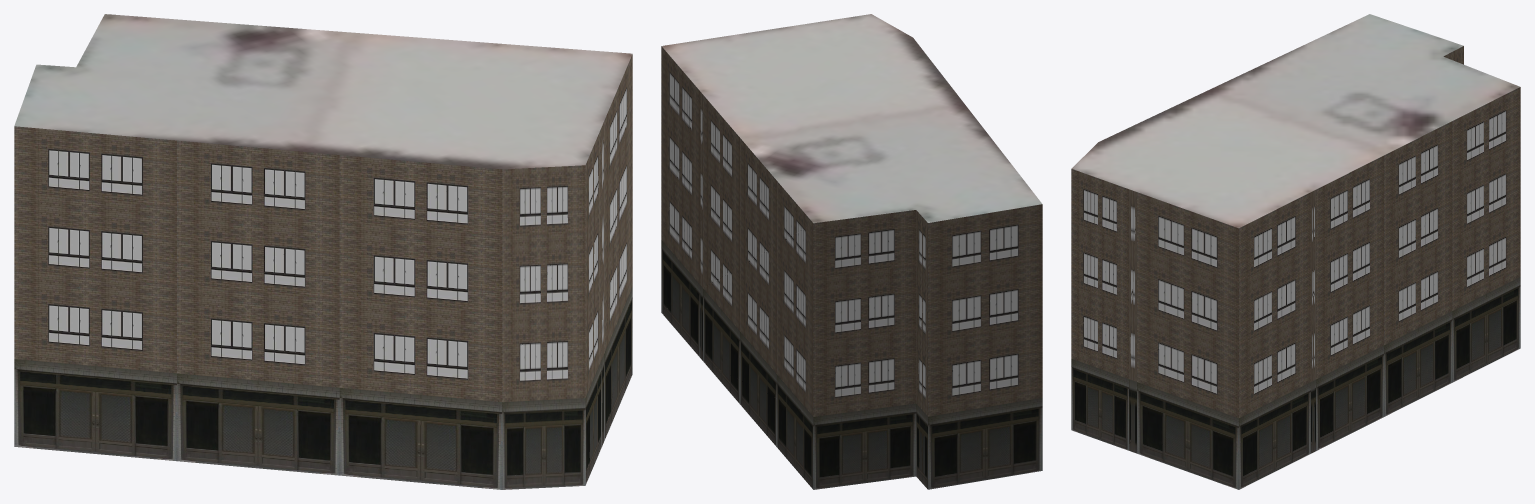
The picture shows the model from 3 angles, left to right: view 1: azimuth 30°, elevation 25°; view 2: azimuth 150°, elevation 25°; view 3: azimuth 270°, elevation 25°; orthographic projection. The views are drawn at different scales.
Visible parts, largest first — view 1: SketchUp (×10); view 2: SketchUp (×12); view 3: SketchUp (×13).
Boxes of the visible parts, x1,y1,x2,y2 form: SketchUp (×10): (14,14,632,489); SketchUp (×12): (661,14,1042,489); SketchUp (×13): (1071,14,1520,489).
Size of the model in its own units: 21.18 by 18.75 by 12.05.
3 materials, 3 textured.
